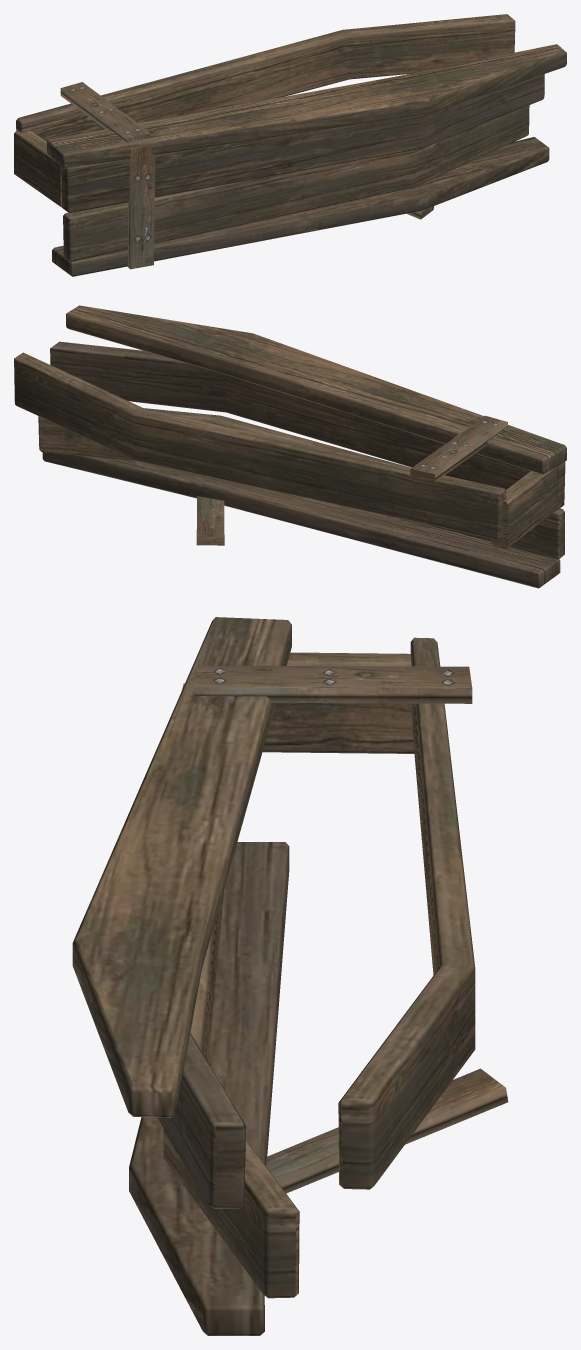
File: coffinstorage.corpse.glb
The picture shows the model from 3 angles, top to bottom: view 1: azimuth 30°, elevation 25°; view 2: azimuth 150°, elevation 25°; view 3: azimuth 270°, elevation 25°; orthographic projection. The views are drawn at different scales.
Parts seen in each view (by area): view 1: CombinedGibsMesh; view 2: CombinedGibsMesh; view 3: CombinedGibsMesh.
Boxes of the visible parts, bbox=[...] form: CombinedGibsMesh: bbox=[14, 14, 566, 276]; CombinedGibsMesh: bbox=[14, 305, 566, 588]; CombinedGibsMesh: bbox=[72, 617, 508, 1335].
Bounding box in the file's own units: 2.37 × 0.6572 × 0.9199.
Materials: 1 (1 with a texture image).
